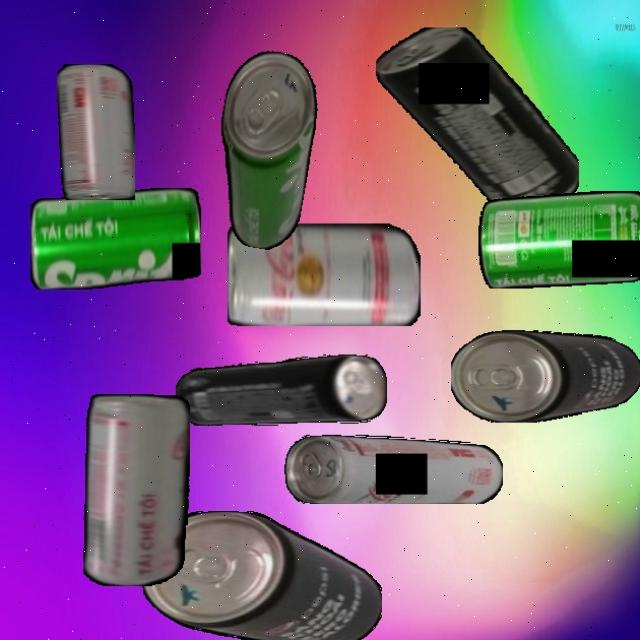debris: (375, 28, 579, 214), (142, 510, 382, 640), (201, 45, 327, 254), (83, 393, 190, 586), (227, 223, 420, 326), (451, 329, 640, 423), (30, 187, 201, 289), (476, 190, 640, 288), (284, 434, 503, 504), (175, 354, 387, 426), (57, 63, 135, 200)
